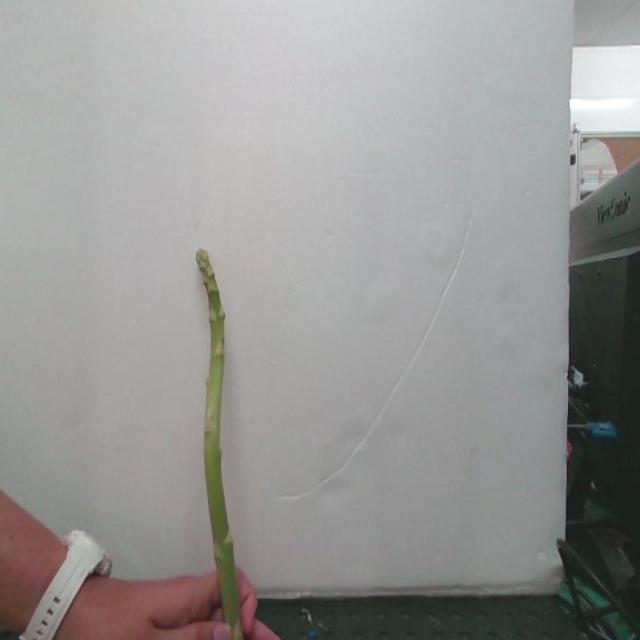aspargus: (197, 250, 244, 640)
